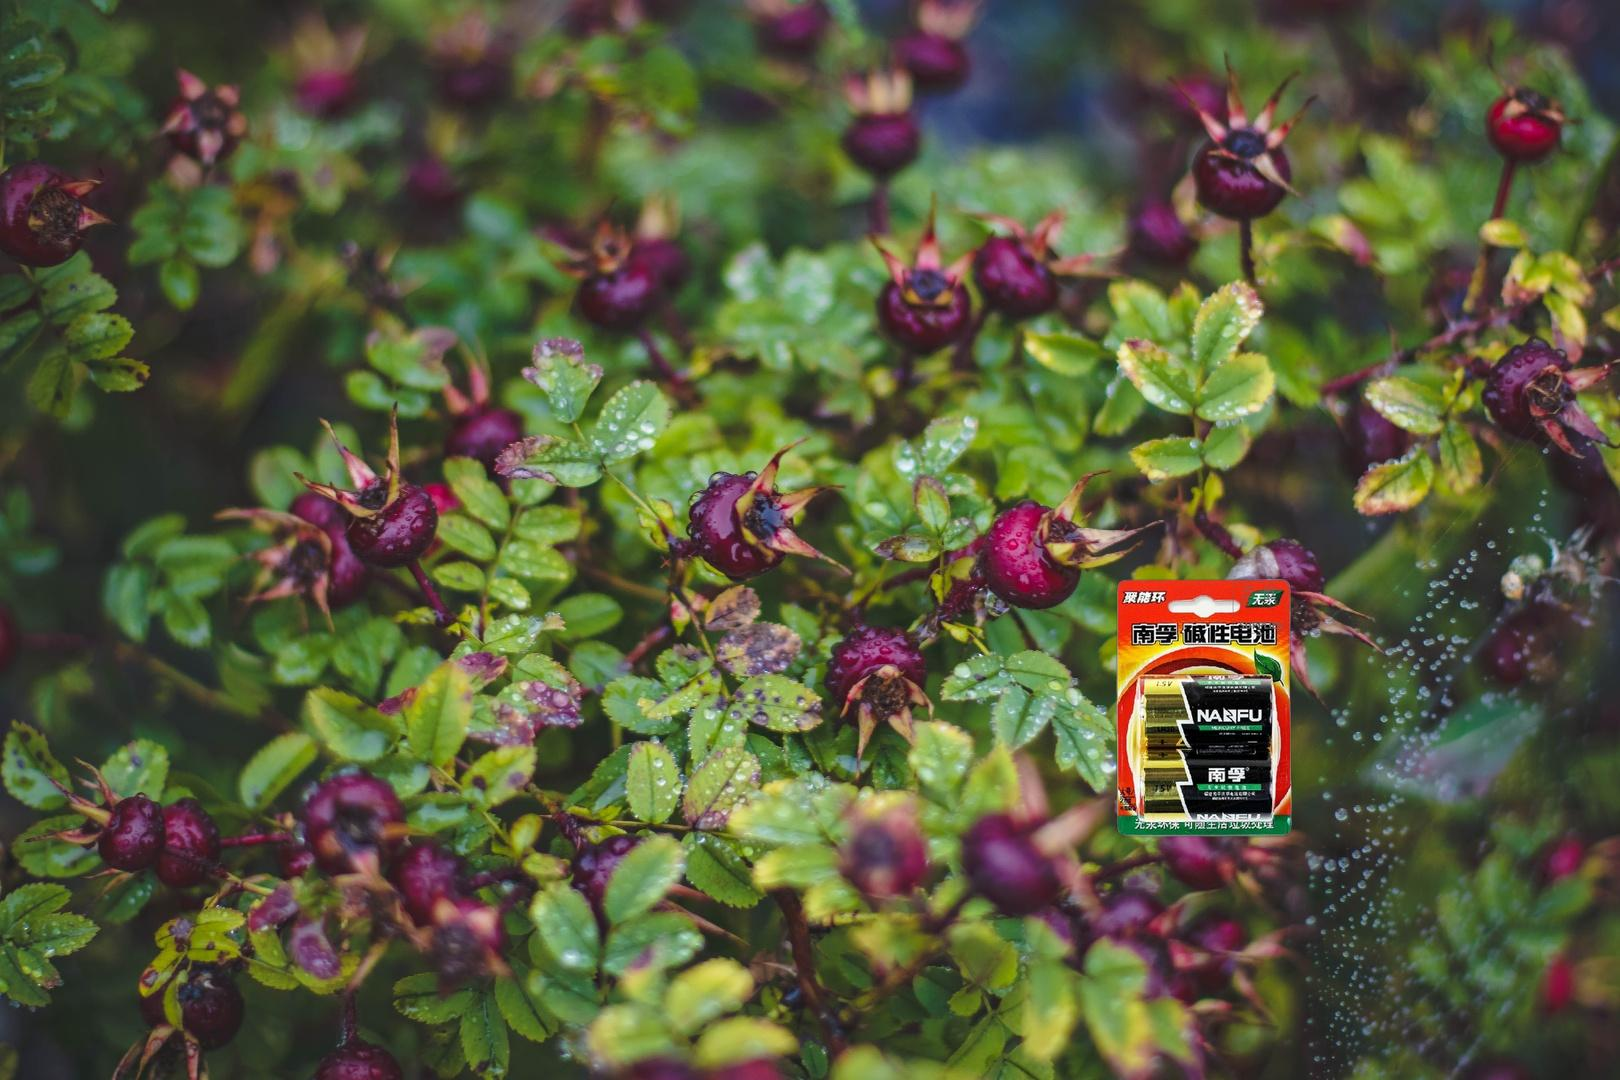battery: (1113, 575, 1295, 839)
